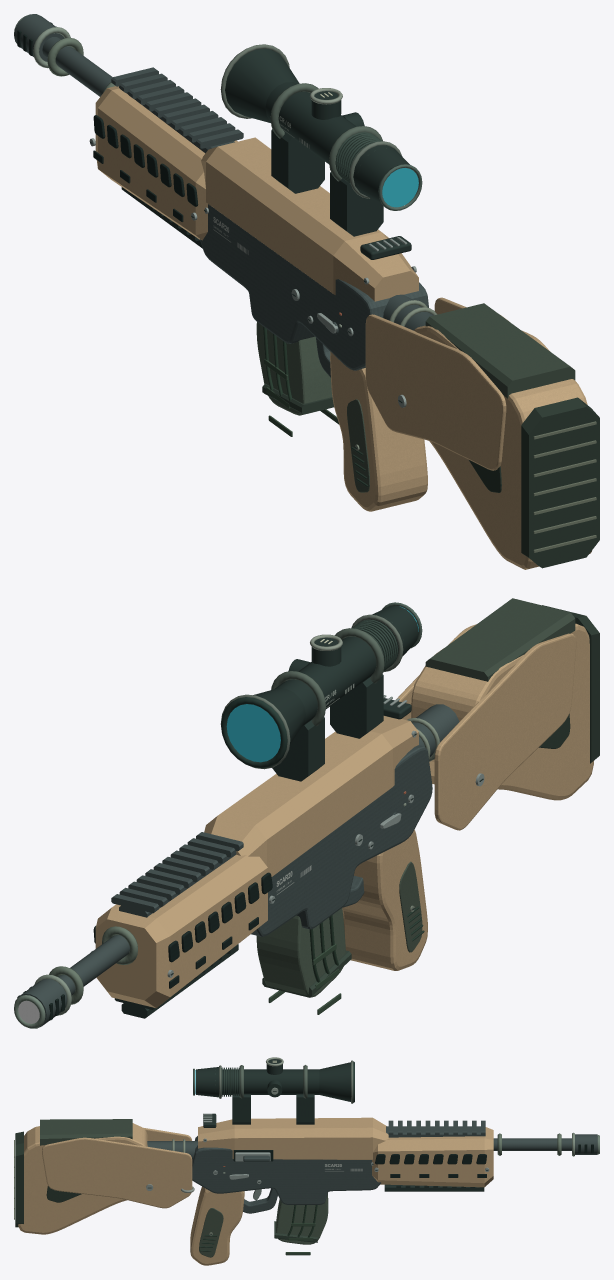
The model's file is scar20.glb.
The picture shows the model from 3 angles, top to bottom: view 1: azimuth 30°, elevation 25°; view 2: azimuth 150°, elevation 25°; view 3: azimuth 270°, elevation 25°; orthographic projection. The views are drawn at different scales.
Parts seen in each view (by area): view 1: scar20, magazine; view 2: scar20, magazine; view 3: scar20, magazine, bolt.
Boxes of the visible parts, x1=… form: scar20: x1=14, y1=14, x2=599, y2=569; magazine: x1=256, y1=322, x2=339, y2=436; scar20: x1=14, y1=598, x2=599, y2=1028; magazine: x1=256, y1=908, x2=351, y2=1014; scar20: x1=14, y1=1057, x2=599, y2=1265; magazine: x1=274, y1=1193, x2=328, y2=1255; bolt: x1=235, y1=1152, x2=270, y2=1161.
Size of the model in its own units: 0.1552 by 0.6167 by 1.65.
Materials: 38 (19 with a texture image).
